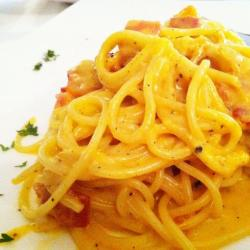carbonara: (28, 13, 250, 247)
